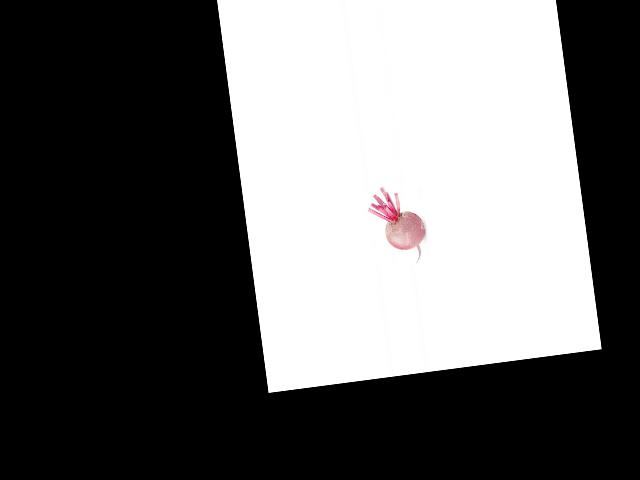beet: (365, 182, 428, 267)
